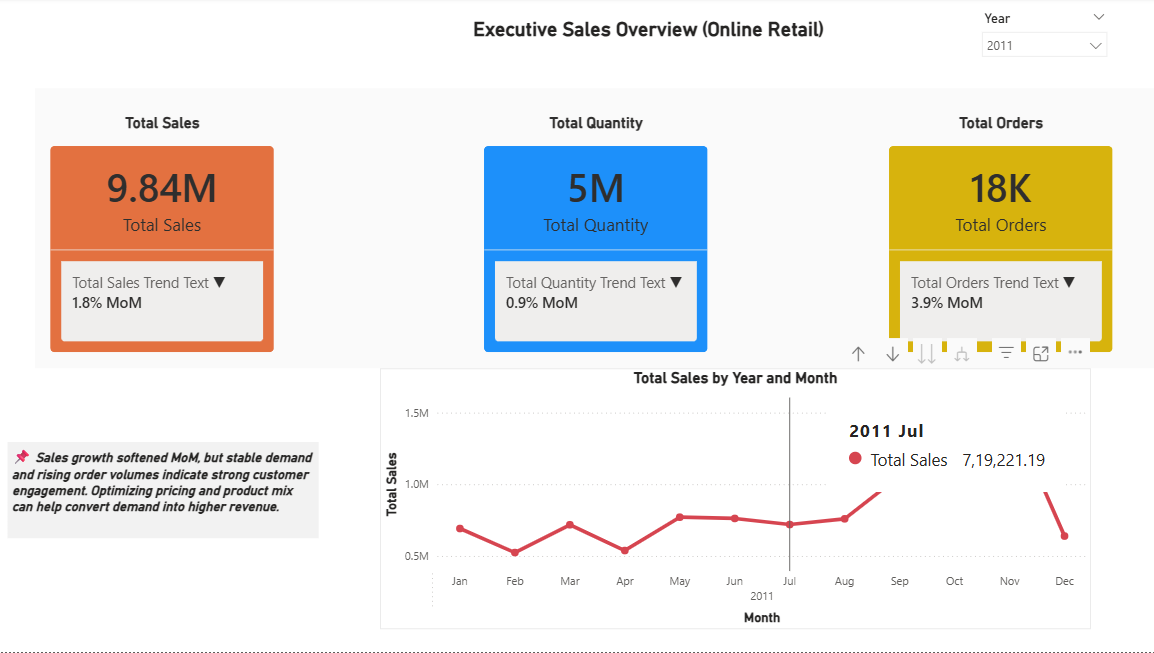

What the dashboard file says about the page in this screenshot:
{"tool":"powerbi","page":{"name":"Page 1","canvas":[1280,720],"ordinal":0},"visuals":[{"type":"cardVisual","title":"Total Sales","fields":{"Data":["Online Retail.Total Sales"]},"box":[43.9,127.6,279.9,279.9],"z":0},{"type":"cardVisual","title":"Total Quantity","fields":{"Data":["Online Retail.Total Quantity"]},"box":[520.1,127.6,279.9,279.9],"z":1000},{"type":"cardVisual","title":"Total Orders","fields":{"Data":["Online Retail.Total Orders"]},"box":[964.7,127.6,279.9,279.9],"z":2000},{"type":"lineChart","fields":{"Y":["Online Retail.Total Sales"],"Category":["Calender.Year","Calender.Month"]},"box":[422.6,407.5,780.8,286.8],"z":3000},{"type":"textbox","box":[520.1,17.8,399.3,63.1],"z":4000},{"type":"slicer","fields":{"Values":["Calender.Year"]},"box":[1073.1,9.6,157.8,81],"z":5000},{"type":"shape","box":[43.9,100.2,1236.4,307.4],"z":6000},{"type":"textbox","box":[13.7,488.5,341.7,105.7],"z":7000}]}

Visuals, with their boxes on the page's 1280x720 design canvas (x1, y1, x2, y2). These are canvas units, not pixel positions in the 1154x653 screenshot, which may show the page scaled, cropped or inside an application window:
"Total Sales" cardVisual: 44:128:324:408
"Total Quantity" cardVisual: 520:128:800:408
"Total Orders" cardVisual: 965:128:1245:408
lineChart - Online Retail.Total Sales x Calender.Year: 423:408:1203:694
textbox: 520:18:919:81
slicer - Calender.Year: 1073:10:1231:91
shape: 44:100:1280:408
textbox: 14:488:355:594
